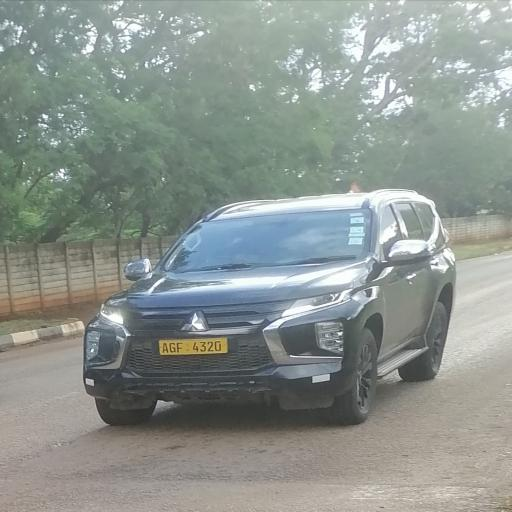number-plates: (156, 338, 229, 356)
